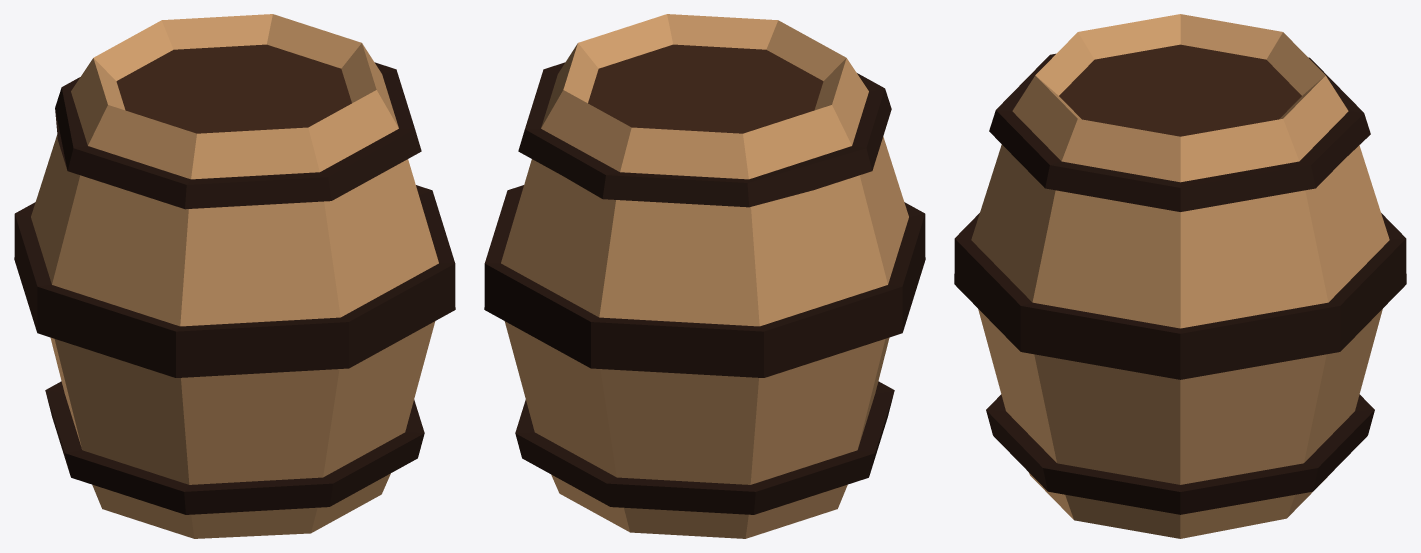
The model's file is Barrel.fbx.
3 views of the same model, side by side, from view 1: azimuth 30°, elevation 25°; view 2: azimuth 150°, elevation 25°; view 3: azimuth 270°, elevation 25° (orthographic).
Visible parts, largest first — view 1: Cylinder; view 2: Cylinder; view 3: Cylinder.
Boxes of the visible parts, left/top/right/bottom form: Cylinder: left=14, top=14, right=455, bottom=538; Cylinder: left=484, top=14, right=925, bottom=538; Cylinder: left=954, top=14, right=1406, bottom=538.
Bounding box in the file's own units: 269 × 262 × 269.
